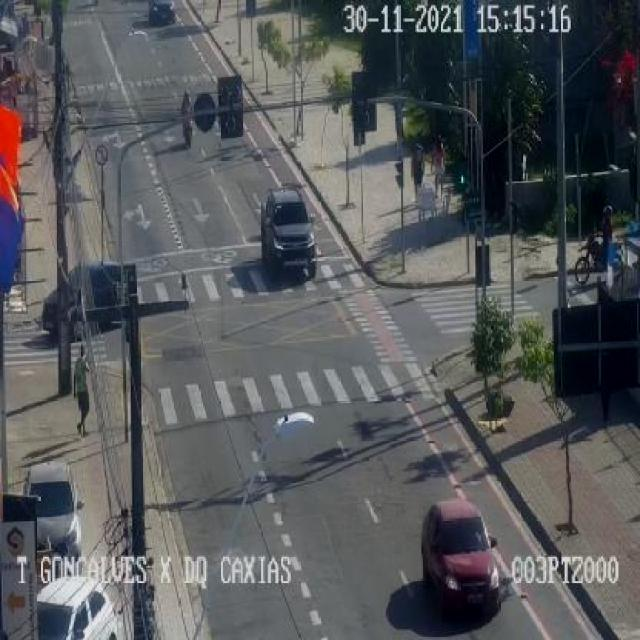Car: (424, 500, 503, 620), (44, 261, 131, 337), (22, 461, 82, 558), (36, 576, 122, 640), (258, 186, 316, 277), (41, 286, 66, 341), (148, 0, 176, 25)
